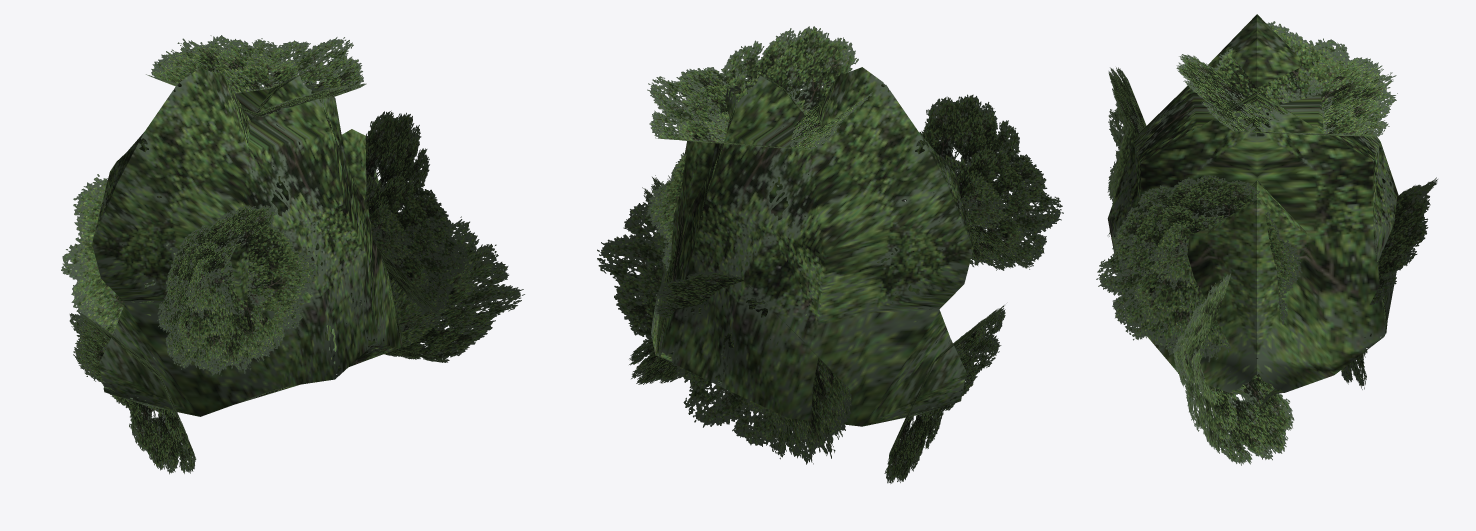
Rendered from tree_lives.fbx.
3 renders of one model, left to right at view 1: azimuth 30°, elevation 25°; view 2: azimuth 150°, elevation 25°; view 3: azimuth 270°, elevation 25°, orthographic. The views are drawn at different scales.
Visible parts, largest first — view 1: pPlane6; view 2: pPlane6; view 3: pPlane6.
Part boxes in pixels (<box>): pPlane6: <box>61,35,524,474</box>; pPlane6: <box>597,26,1063,483</box>; pPlane6: <box>1096,14,1437,465</box>.
Bounding box in the file's own units: 17.8 × 16.28 × 13.85.
1 material, 1 textured.
